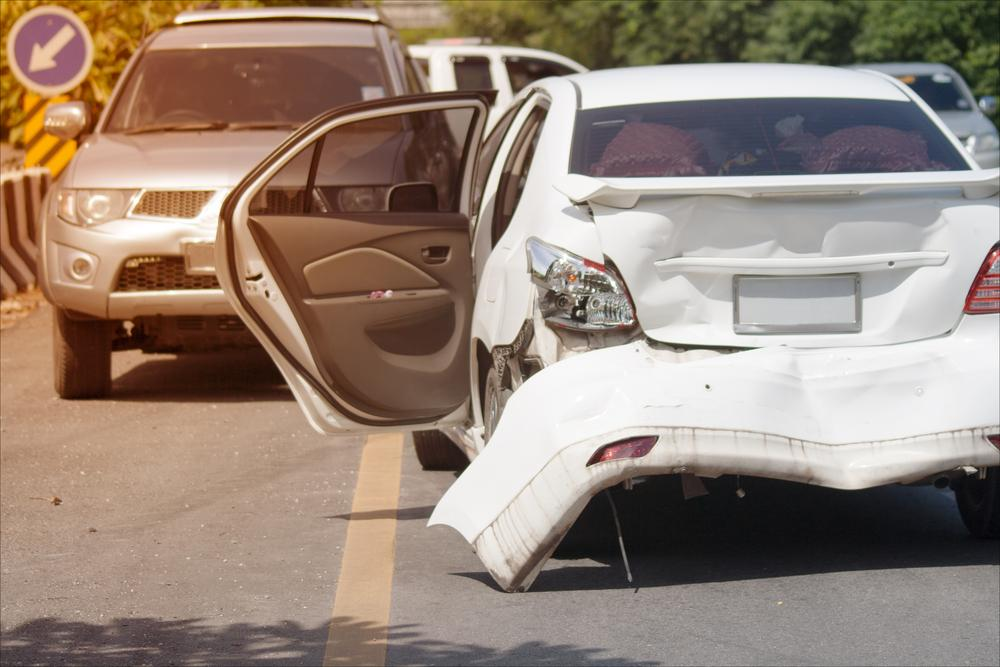dent: (636, 199, 958, 350), (763, 340, 942, 486)
lamp broken: (524, 240, 632, 341)
